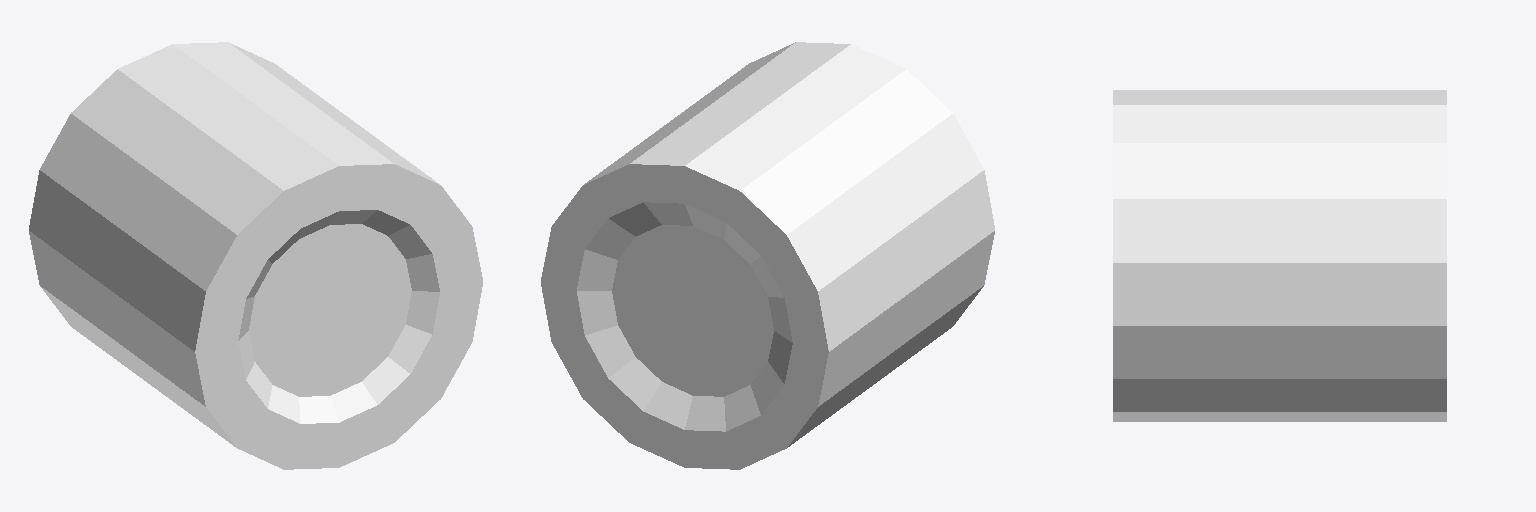
Rendered from tire.obj.
The picture shows the model from 3 angles: view 1: azimuth 30°, elevation 25°; view 2: azimuth 150°, elevation 25°; view 3: azimuth 270°, elevation 25°; orthographic projection.
Parts seen in each view (by area): view 1: cylinder1; view 2: cylinder1; view 3: cylinder1.
Boxes of the visible parts, <box> form: cylinder1: <box>29,42,482,469</box>; cylinder1: <box>541,42,994,469</box>; cylinder1: <box>1113,90,1446,421</box>.
Size of the model in its own units: 2 by 2 by 2.